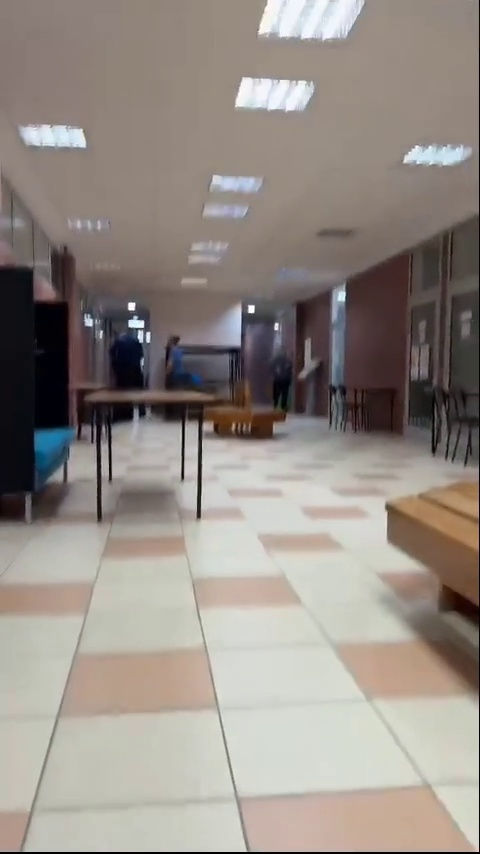no vest: (111, 330, 149, 396), (164, 330, 200, 387), (271, 345, 301, 408)
